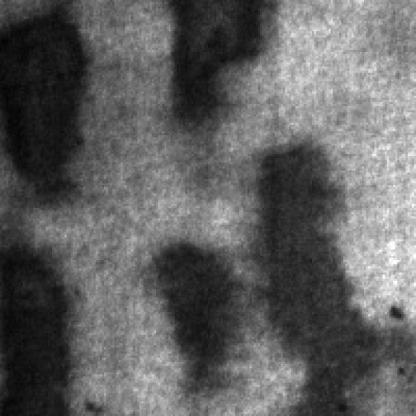patches: (260, 152, 397, 416), (2, 2, 92, 208), (154, 247, 250, 400), (169, 2, 274, 135), (2, 245, 79, 416)
